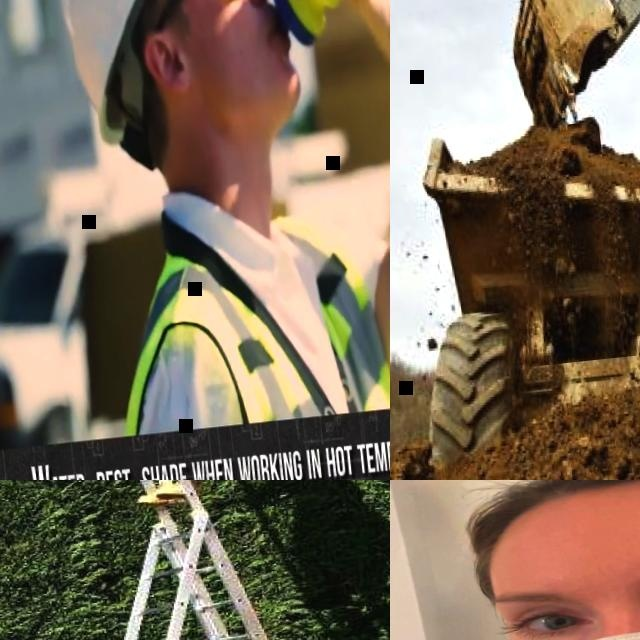Hardhat: (56, 0, 267, 151)
NO-Hardhat: (446, 480, 640, 551)
NO-Mask: (137, 0, 305, 143)
Person: (52, 0, 390, 437), (390, 480, 640, 640)
Safety Vest: (104, 188, 390, 437)
machinery: (397, 109, 640, 478), (495, 0, 640, 405)
